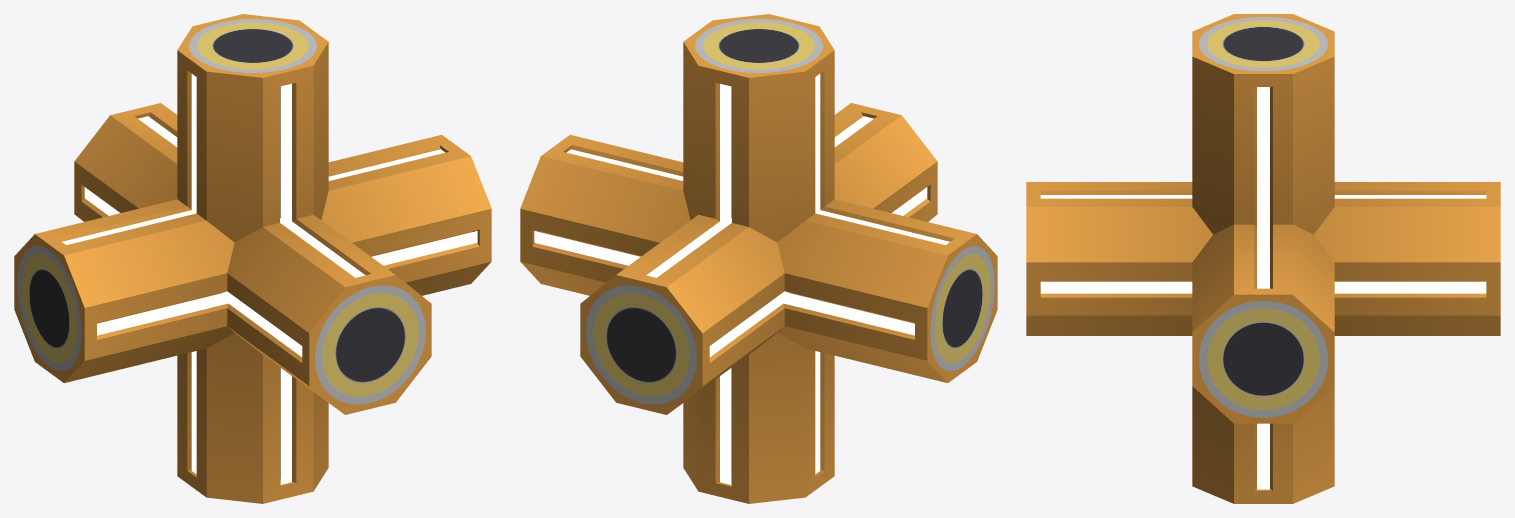
3 views of the same model, side by side, from view 1: azimuth 30°, elevation 25°; view 2: azimuth 150°, elevation 25°; view 3: azimuth 270°, elevation 25° (orthographic).
Parts seen in each view (by area): view 1: NegX, PosY, PosZ, NegY, PosX, NegZ, PosY_Power, NegX_Power, NegY_Power, PosX_Power, PosZ_Power, NegZ_Power; view 2: NegX, PosY, NegZ, NegY, PosX, PosZ, PosY_Power, NegX_Power, NegY_Power, PosX_Power, NegZ_Power, PosZ_Power; view 3: PosY, PosX, PosZ, NegZ, NegY, PosZ_Power, NegZ_Power, PosY_Power, NegY_Power, PosX_Power.
Part boxes in pixels (bbox=[...]): NegX: bbox=[14, 199, 234, 382]; PosY: bbox=[177, 14, 328, 242]; PosZ: bbox=[227, 214, 431, 414]; NegY: bbox=[177, 333, 328, 503]; PosX: bbox=[321, 135, 491, 295]; NegZ: bbox=[74, 103, 177, 221]; PosY_Power: bbox=[191, 74, 291, 223]; NegX_Power: bbox=[62, 210, 228, 335]; NegY_Power: bbox=[191, 351, 291, 484]; PosX_Power: bbox=[328, 149, 477, 265]; PosZ_Power: bbox=[222, 218, 365, 356]; NegZ_Power: bbox=[84, 116, 177, 215]; NegX: bbox=[777, 199, 997, 382]; PosY: bbox=[683, 14, 834, 242]; NegZ: bbox=[580, 214, 784, 414]; NegY: bbox=[683, 333, 834, 503]; PosX: bbox=[520, 135, 690, 295]; PosZ: bbox=[834, 103, 937, 221]; PosY_Power: bbox=[720, 74, 820, 223]; NegX_Power: bbox=[783, 210, 949, 335]; NegY_Power: bbox=[720, 351, 820, 484]; PosX_Power: bbox=[534, 149, 683, 265]; NegZ_Power: bbox=[646, 218, 789, 356]; PosZ_Power: bbox=[834, 116, 927, 215]; PosY: bbox=[1192, 14, 1334, 234]; PosX: bbox=[1192, 224, 1334, 423]; PosZ: bbox=[1026, 182, 1212, 335]; NegZ: bbox=[1314, 182, 1500, 335]; NegY: bbox=[1192, 386, 1334, 503]; PosZ_Power: bbox=[1040, 195, 1192, 293]; NegZ_Power: bbox=[1334, 195, 1486, 293]; PosY_Power: bbox=[1257, 87, 1269, 226]; NegY_Power: bbox=[1257, 423, 1269, 489]; PosX_Power: bbox=[1257, 226, 1269, 288].
Size of the model in its own units: 1 by 1 by 1.
Materials: 3 (1 with a texture image).
